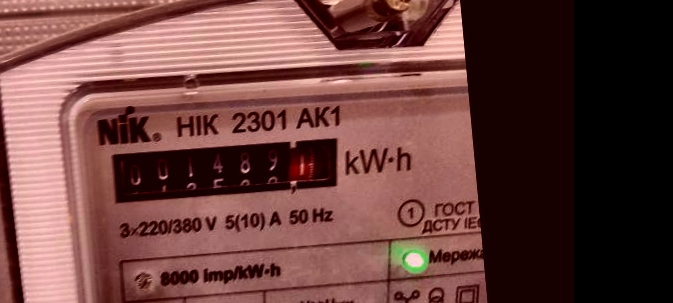0: (152, 154, 171, 180), (126, 160, 143, 187)
1: (181, 150, 198, 181), (293, 146, 308, 177)
4: (208, 149, 226, 176)
8: (234, 146, 253, 175)
9: (263, 146, 280, 172)
screen: (95, 121, 357, 220)
